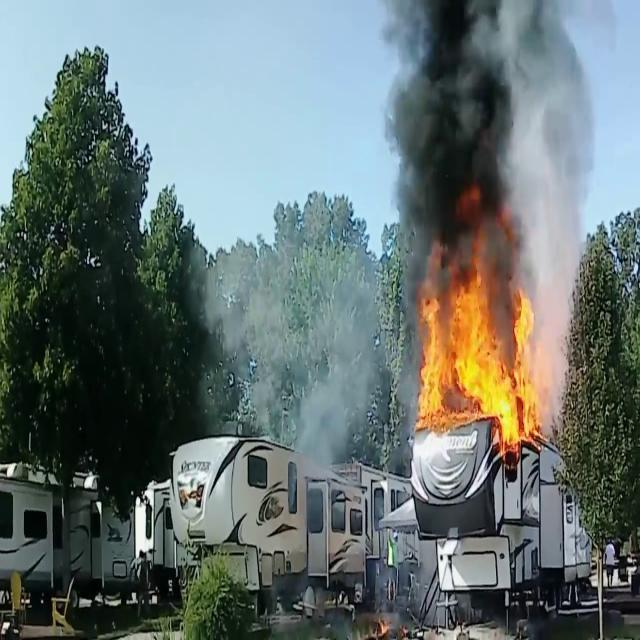Fire: (411, 260, 544, 450)
Smoke: (374, 1, 586, 300), (282, 240, 390, 514)
